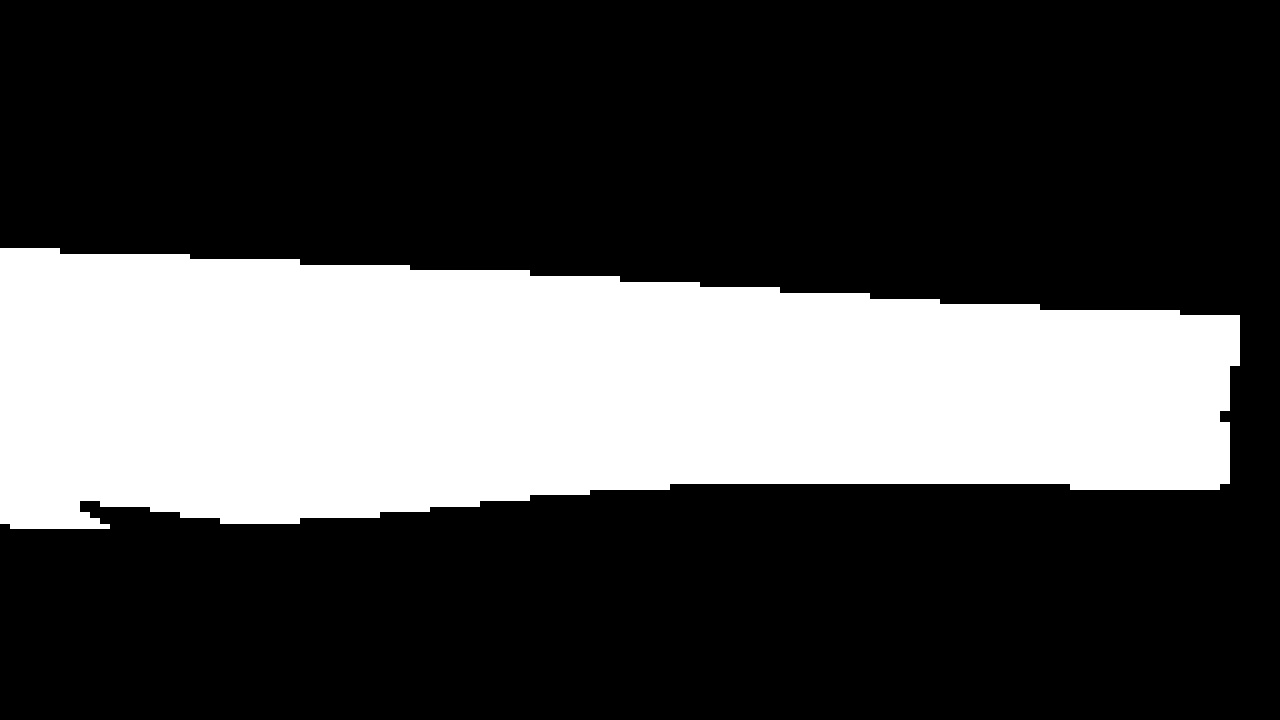Turbine: (11, 233, 1268, 543)
